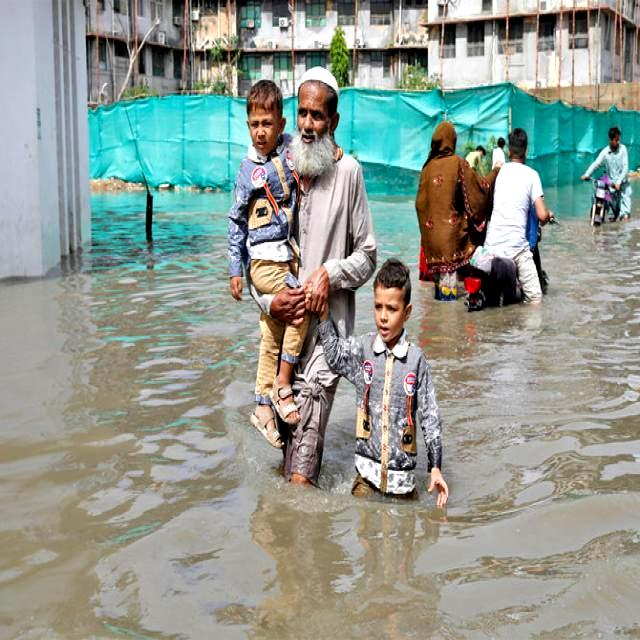civilian: (274, 58, 379, 501), (325, 251, 480, 514), (226, 87, 314, 461), (412, 112, 494, 305), (486, 119, 553, 311), (585, 122, 640, 234), (464, 128, 484, 178), (491, 128, 507, 175)
